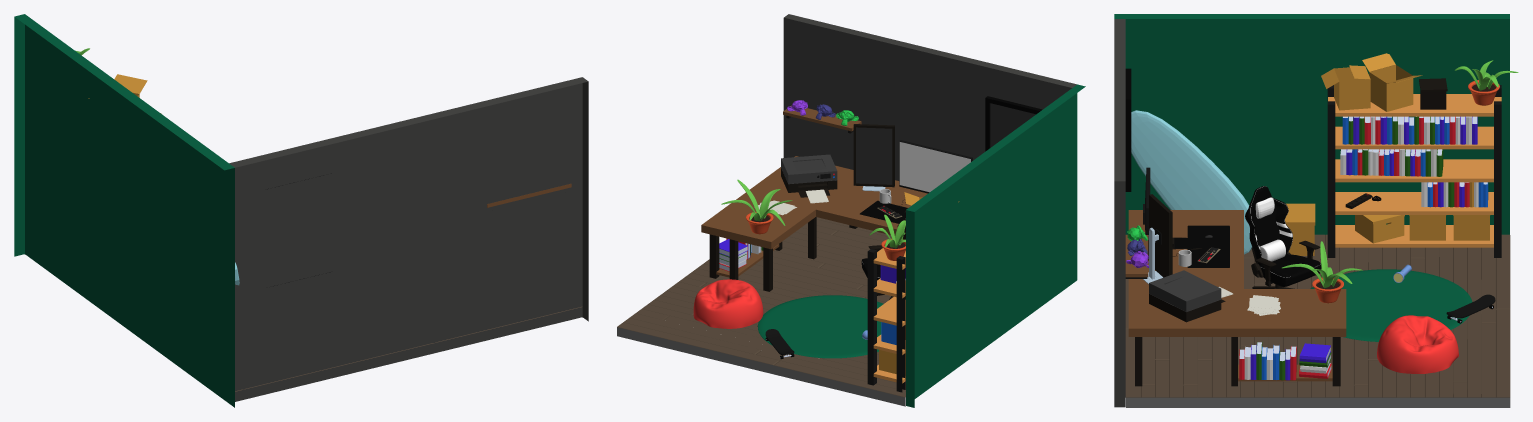
Rendered from room_2.10.gltf.
3 views of the same model, side by side, from view 1: azimuth 30°, elevation 25°; view 2: azimuth 150°, elevation 25°; view 3: azimuth 270°, elevation 25° (orthographic). The views are drawn at different scales.
Visible parts, largest first — view 1: y-wall, x-wall; view 2: x-wall, y-wall, desk, rag, pillpw_chair, basement, shelf-legs, main_monitor_screen, code_monitor_screen, printer, desk-legs, shelf (+27 smaller); view 3: x-wall, desk, shelf, surf, rag, y-wall, basement, pillpw_chair, shelf-legs, printer, Cube.009, Plane.015 (+53 smaller).
Part boxes in pixels (x1,y1,x2,y2): y-wall: (229,77,588,401); x-wall: (14,14,234,407); x-wall: (906,84,1085,407); y-wall: (783,14,1076,180); desk: (701,156,927,249); rag: (757,295,883,358); pillpw_chair: (693,279,763,328); basement: (617,327,905,406); shelf-legs: (867,249,905,392); main_monitor_screen: (899,142,970,192); code_monitor_screen: (856,127,892,184); printer: (781,154,837,197); desk-legs: (709,217,857,291); shelf: (873,248,905,383); x-wall: (1114,14,1509,234); desk: (1128,210,1346,336); shelf: (1328,94,1501,247); surf: (1131,110,1252,254); rag: (1310,269,1472,341); y-wall: (1114,19,1125,407); basement: (1126,397,1510,407); pillpw_chair: (1377,315,1458,373); shelf-legs: (1327,85,1501,257); printer: (1149,270,1225,322); Cube.009: (1362,53,1422,111); Plane.015: (1245,186,1292,265).
Bounding box in the file's own units: 2.06 × 1.3 × 2.1.
